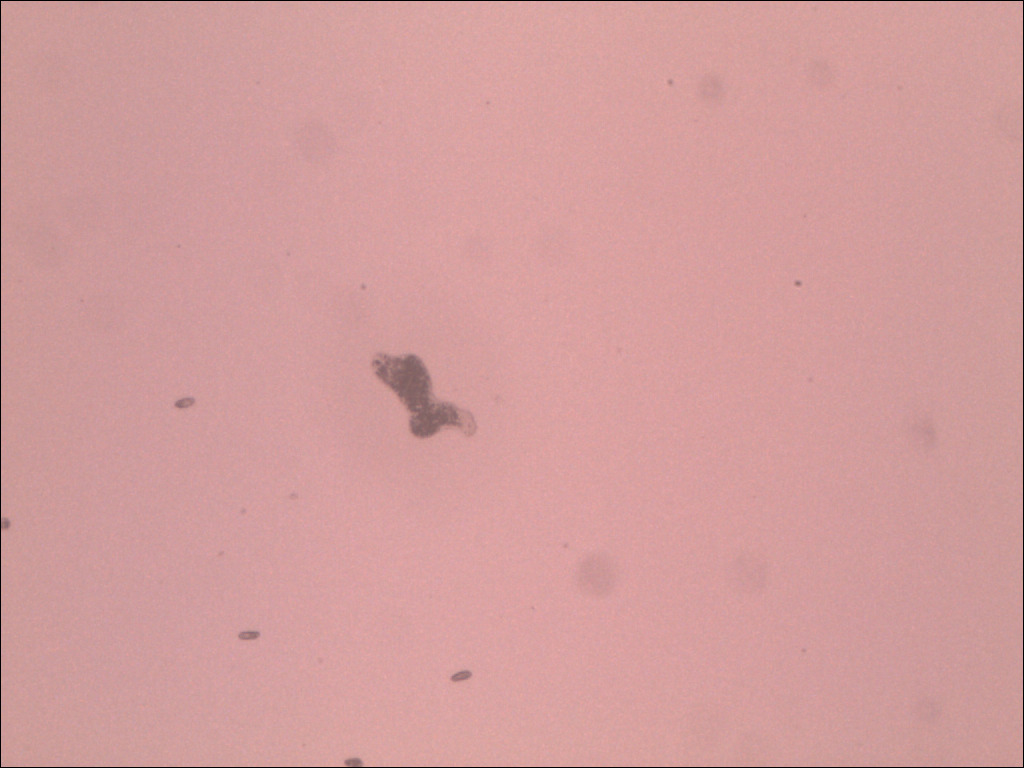amoeba: (358, 340, 491, 453)
